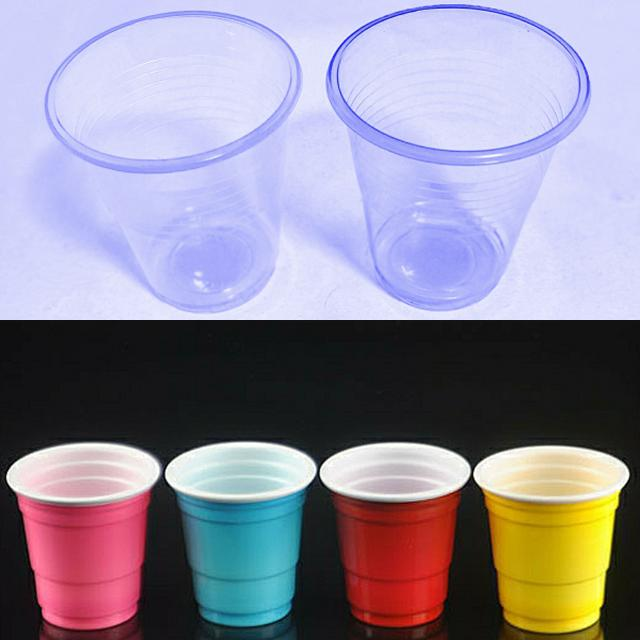Single-Use-Plastic: (326, 5, 590, 310), (45, 11, 301, 312), (474, 445, 629, 633), (6, 442, 161, 629), (320, 442, 471, 628), (165, 441, 316, 626)
